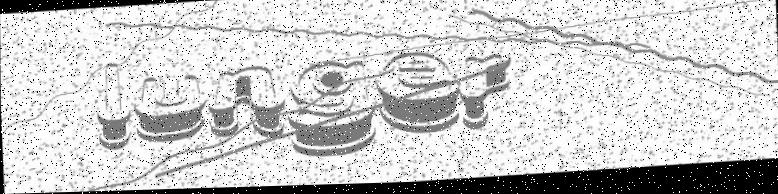e: (374, 49, 461, 140)
g: (285, 58, 379, 161)
l: (93, 58, 133, 151)
n: (205, 62, 288, 141)
r: (458, 53, 517, 135)
u: (130, 68, 209, 146)
